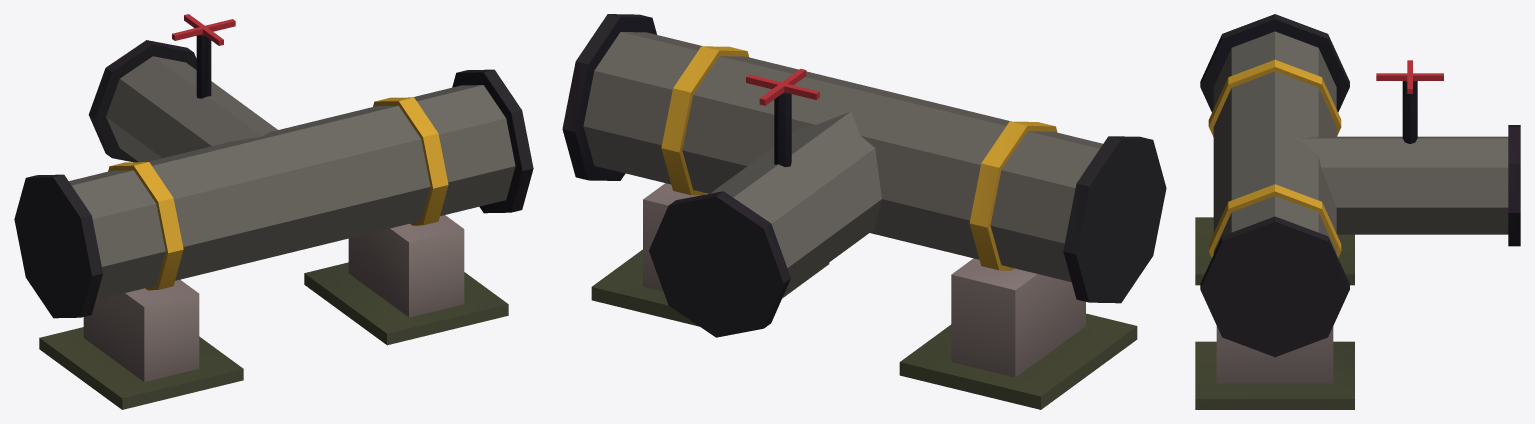
File: kit.dispersal-pipe-tee.lod2.glb
3 views of the same model, side by side, from view 1: azimuth 30°, elevation 25°; view 2: azimuth 150°, elevation 25°; view 3: azimuth 270°, elevation 25° (orthographic). The views are drawn at different scales.
Visible parts, largest first — view 1: body, object 2; view 2: body, object 2; view 3: body, object 2.
Part boxes in pixels (left/top/right/bottom): body: left=14, top=34, right=533, bottom=409; object 2: left=172, top=14, right=235, bottom=45; body: left=562, top=14, right=1166, bottom=409; object 2: left=746, top=68, right=819, bottom=105; body: left=1195, top=14, right=1520, bottom=409; object 2: left=1376, top=60, right=1443, bottom=93.
Size of the model in its own units: 8 by 4.39 by 5.3.
